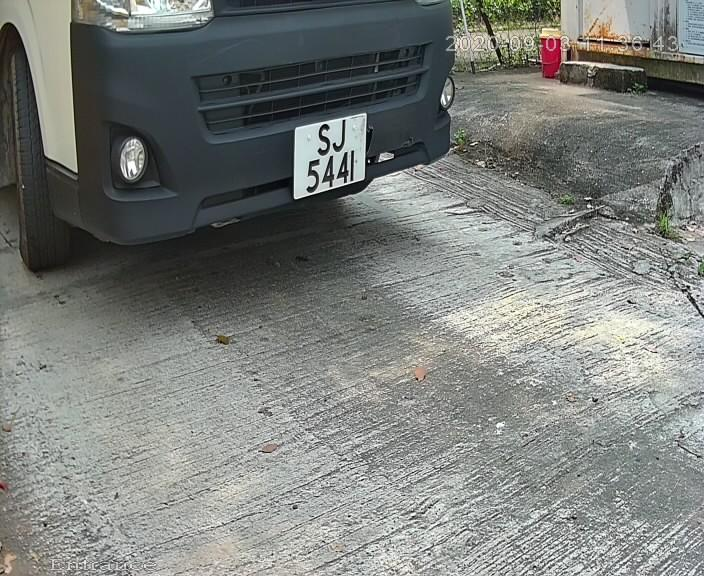License Plate: (283, 103, 374, 209)
